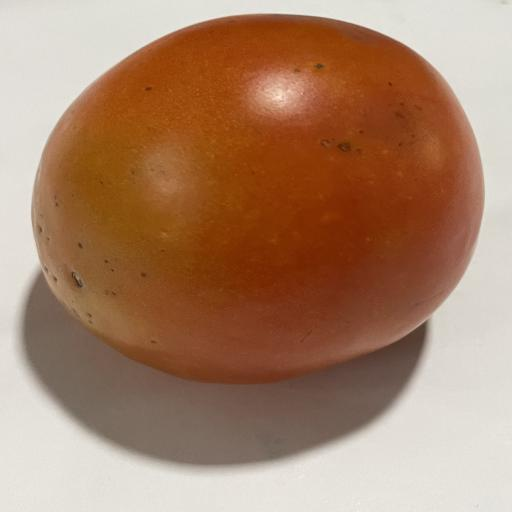unripe: (32, 15, 483, 383)
